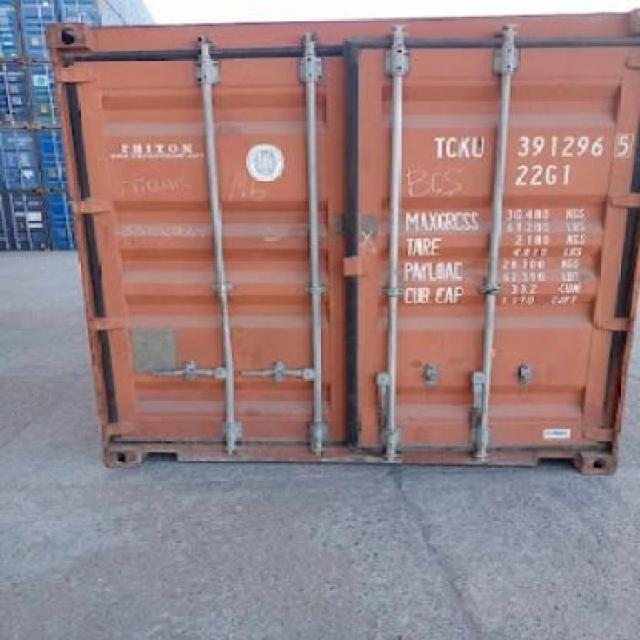ISO: (516, 164, 574, 188)
container_number: (437, 131, 626, 160)
